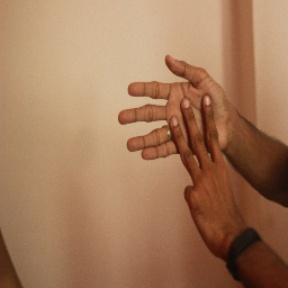M: (117, 53, 243, 203)
